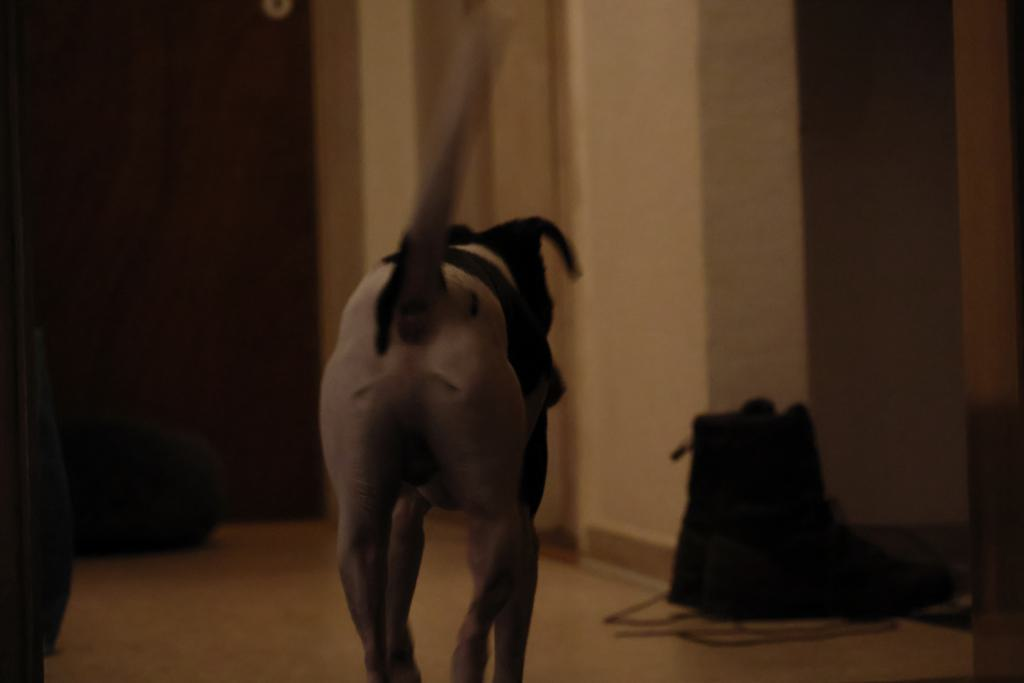Dog: (302, 0, 600, 683)
